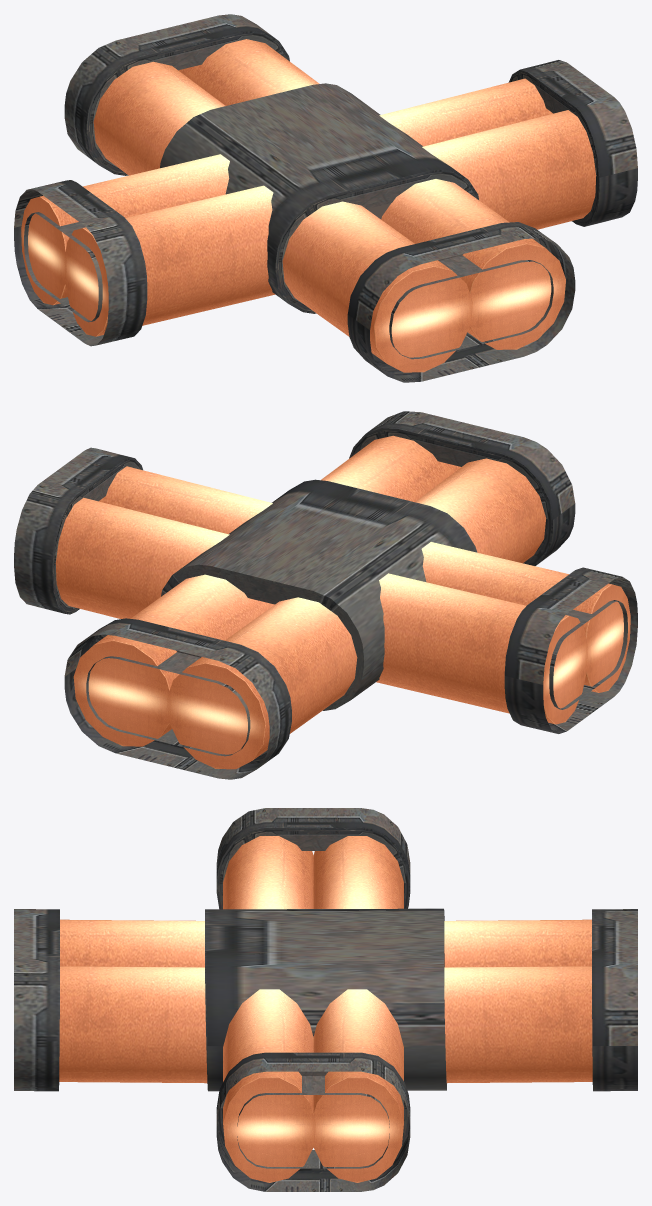
File: heat-pipe-cross.glb
3 renders of one model, top to bottom at view 1: azimuth 30°, elevation 25°; view 2: azimuth 150°, elevation 25°; view 3: azimuth 270°, elevation 25°, orthographic. The views are drawn at different scales.
Parts seen in each view (by area): view 1: heat-pipe-cross; view 2: heat-pipe-cross; view 3: heat-pipe-cross.
Boxes of the visible parts, x1,y1,x2,y2 form: heat-pipe-cross: [14, 14, 637, 382]; heat-pipe-cross: [14, 411, 637, 779]; heat-pipe-cross: [14, 808, 637, 1191].
Size of the model in its own units: 1 by 0.2136 by 1.
Materials: 2 (2 with a texture image).
